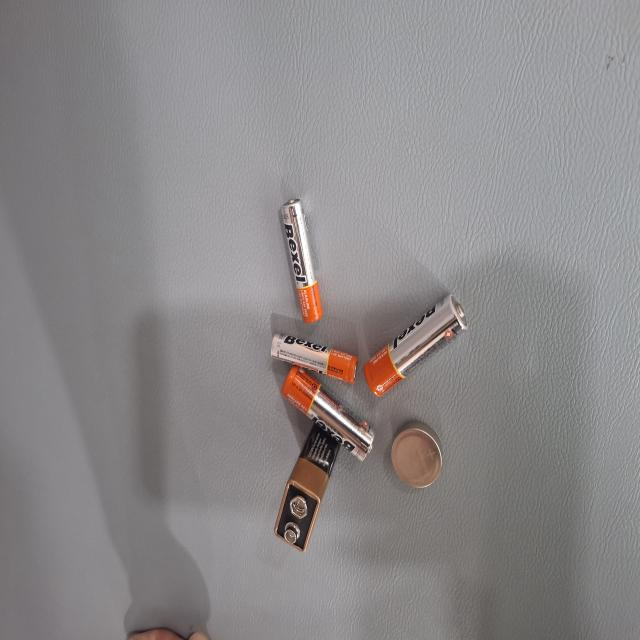9V: (316, 396, 412, 486)
AA: (221, 229, 295, 367), (274, 354, 345, 479)
AAA: (150, 424, 241, 481), (250, 377, 289, 492)
COIN: (314, 263, 368, 334)
